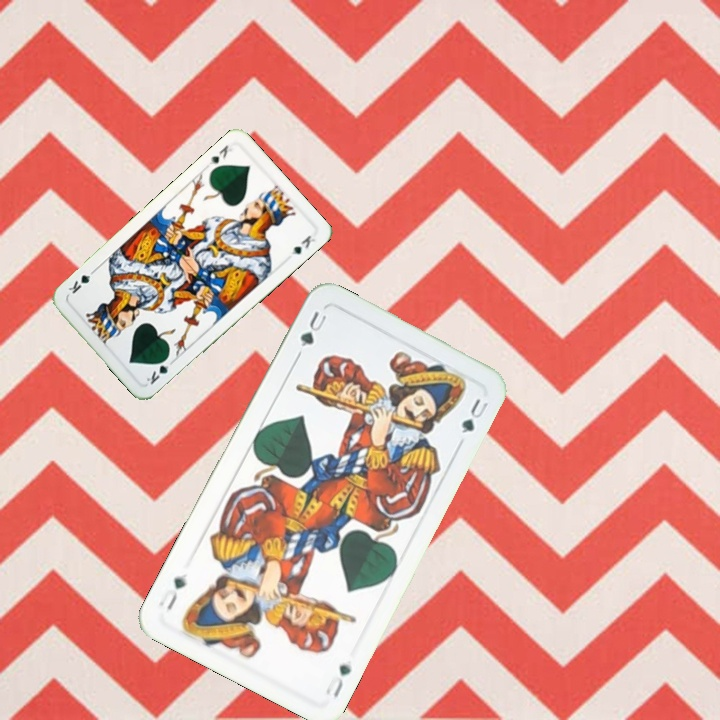GK: (142, 352, 172, 387), (205, 141, 235, 167)
GU: (296, 307, 330, 350), (321, 659, 354, 700)
